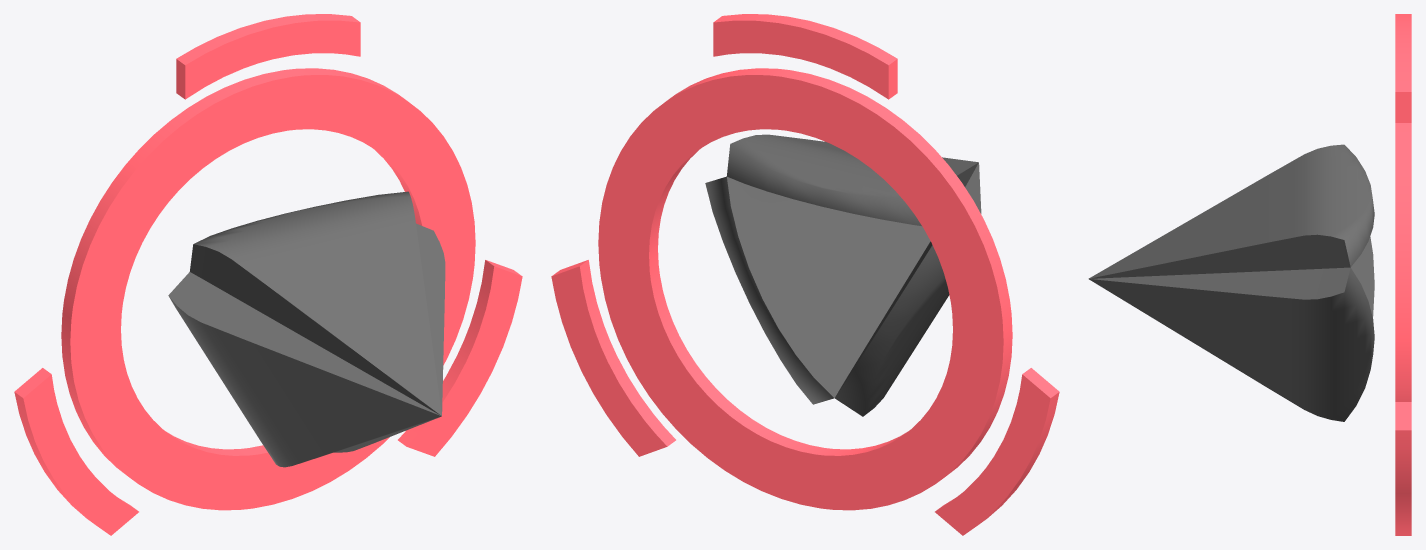
File: Player_Hand3.fbx
The picture shows the model from 3 angles, left to right: view 1: azimuth 30°, elevation 25°; view 2: azimuth 150°, elevation 25°; view 3: azimuth 270°, elevation 25°; orthographic projection. The views are drawn at different scales.
Visible parts, largest first — view 1: Ring, Grab_1, Grab_3, Grab_2; view 2: Ring, Grab_2, Grab_1, Grab_3; view 3: Grab_2, Grab_1, Ring, Grab_3.
Boxes of the visible parts, bbox=[...] form: Ring: bbox=[14, 14, 522, 535]; Grab_1: bbox=[190, 191, 441, 415]; Grab_3: bbox=[168, 272, 441, 467]; Grab_2: bbox=[334, 223, 445, 452]; Ring: bbox=[551, 14, 1059, 535]; Grab_2: bbox=[705, 176, 930, 404]; Grab_1: bbox=[726, 134, 978, 225]; Grab_3: bbox=[835, 163, 981, 416]; Grab_2: bbox=[1089, 267, 1374, 421]; Grab_1: bbox=[1088, 144, 1374, 278]; Ring: bbox=[1395, 14, 1411, 535]; Grab_3: bbox=[1351, 237, 1374, 317].
Size of the model in its own units: 32.03 by 29.25 by 19.78.
